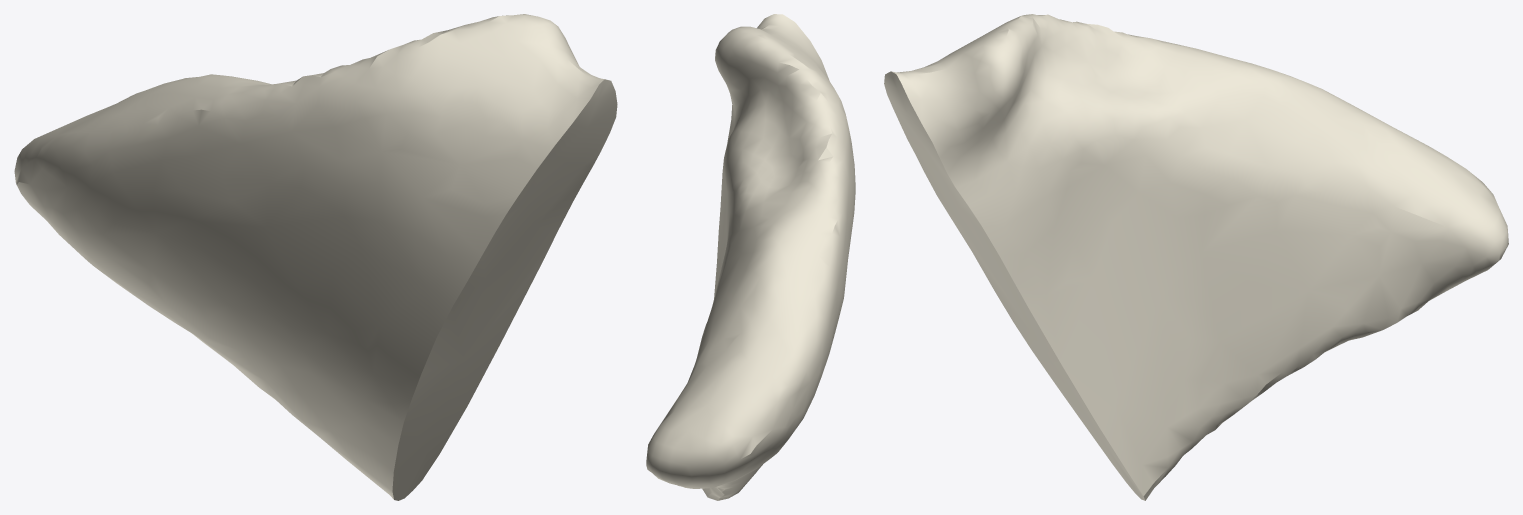
File: fma52905_mm2154m.glb
3 renders of one model, left to right at view 1: azimuth 30°, elevation 25°; view 2: azimuth 150°, elevation 25°; view 3: azimuth 270°, elevation 25°, orthographic. The views are drawn at different scales.
Parts seen in each view (by area): view 1: FMA52905_MM2154M; view 2: FMA52905_MM2154M; view 3: FMA52905_MM2154M.
Boxes of the visible parts, box(x1,y1,x2,y2) form: FMA52905_MM2154M: box(14, 14, 617, 500); FMA52905_MM2154M: box(646, 14, 855, 500); FMA52905_MM2154M: box(884, 14, 1508, 500).
Size of the model in its own units: 0.00872 by 0.0136 by 0.0161.
